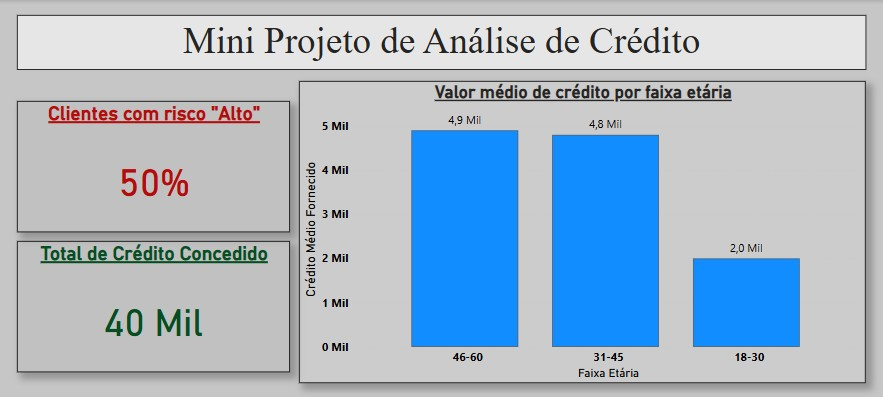

The page's visual inventory and layout, read from the dashboard file:
{"tool":"powerbi","page":{"name":"Página 1","canvas":[1280,720],"ordinal":0},"visuals":[{"type":"card","title":"Clientes com risco \"Alto\"","fields":{"Values":["clientes_tratados.Medida"]},"box":[24.5,145.4,393.1,188.6],"z":0},{"type":"clusteredColumnChart","title":"Valor médio de crédito por faixa etária","fields":{"Category":["clientes_tratados.faixa etária"],"Y":["Avg(clientes_tratados.valor_credito)"]},"box":[430.6,116.6,816.5,434.9],"z":1},{"type":"card","title":"Total de Crédito Concedido","fields":{"Values":["Sum(clientes_tratados.valor_credito)"]},"box":[24.5,347,393.1,188.6],"z":2},{"type":"textbox","box":[24.5,21.6,1222.6,79.2],"z":3}]}

Visuals, with their boxes on the page's 1280x720 design canvas (x1, y1, x2, y2). These are canvas units, not pixel positions in the 883x397 screenshot, which may show the page scaled, cropped or inside an application window:
"Clientes com risco "Alto"" card: 24, 145, 418, 334
"Valor médio de crédito por faixa etária" clusteredColumnChart: 431, 117, 1247, 552
"Total de Crédito Concedido" card: 24, 347, 418, 536
textbox: 24, 22, 1247, 101
